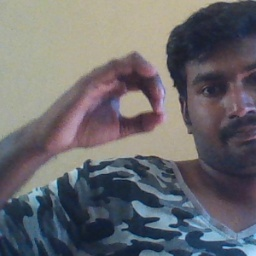O: (45, 50, 169, 149)
